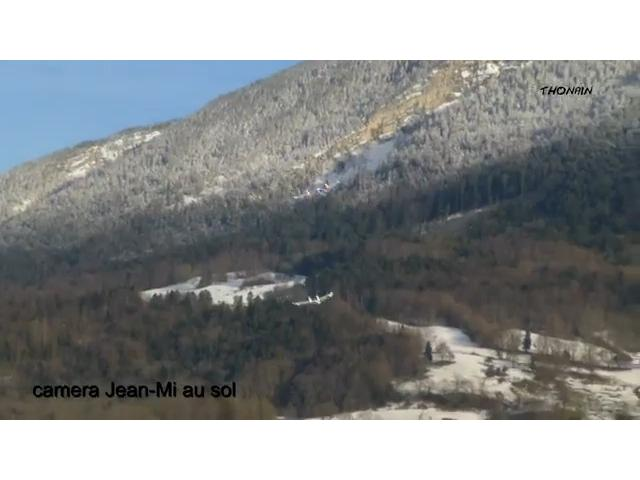Anti-Drone: (295, 292, 333, 306)
